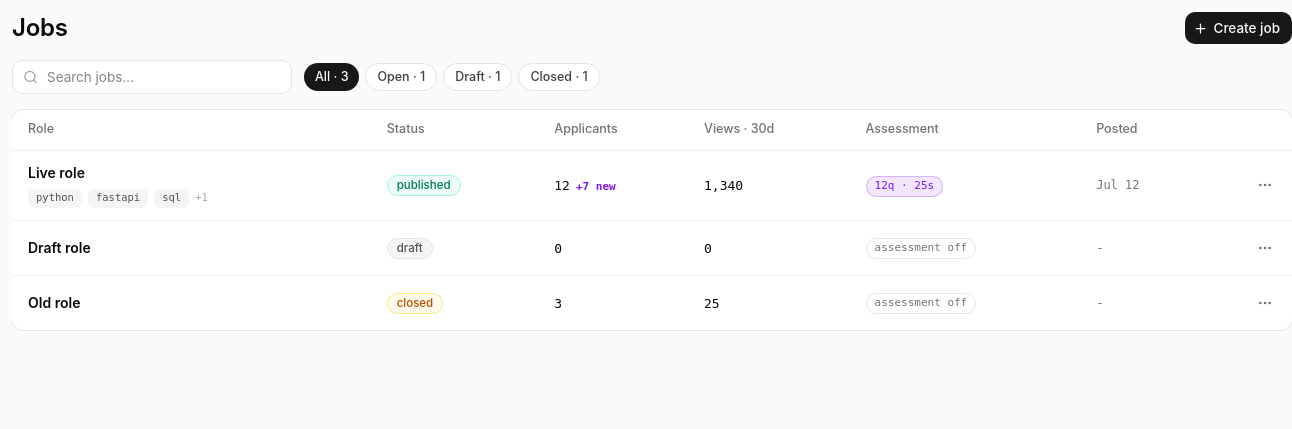
Test: JobsPage › publishes a draft from the row actions menu
The width and height of the screenshot is (1292, 429).
Expected: the link "Draft role" is shown, top-left (28, 239), bottom-right (91, 256)
Click the button named "Actions for Draft role" at {"x": 1265, "y": 248}, box top-left (1250, 233), bottom-right (1280, 263)
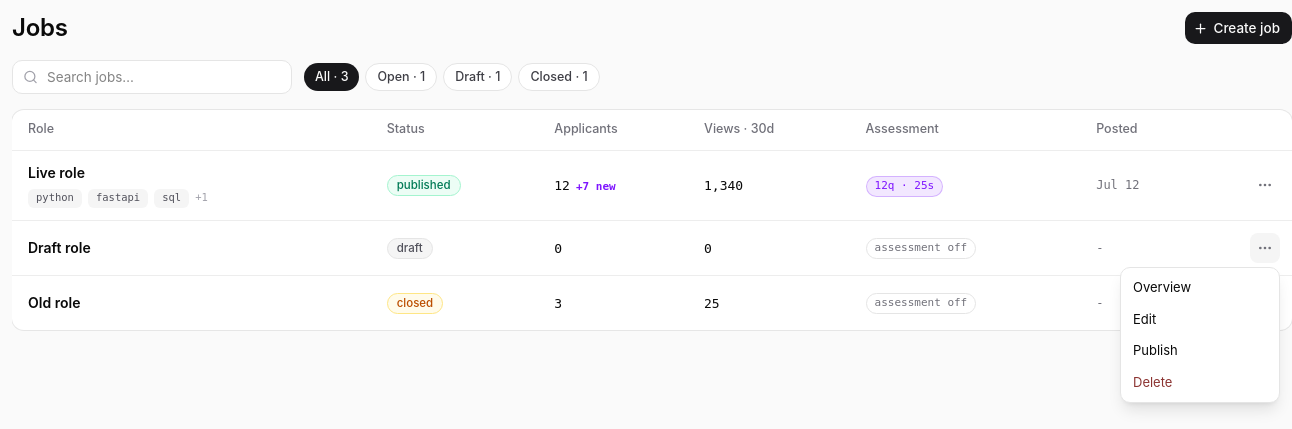
Expected: the menu item "Delete" is shown, top-left (1133, 374), bottom-right (1172, 390)
Click the menu item "Publish" at {"x": 1155, "y": 350}, box top-left (1133, 342), bottom-right (1178, 358)
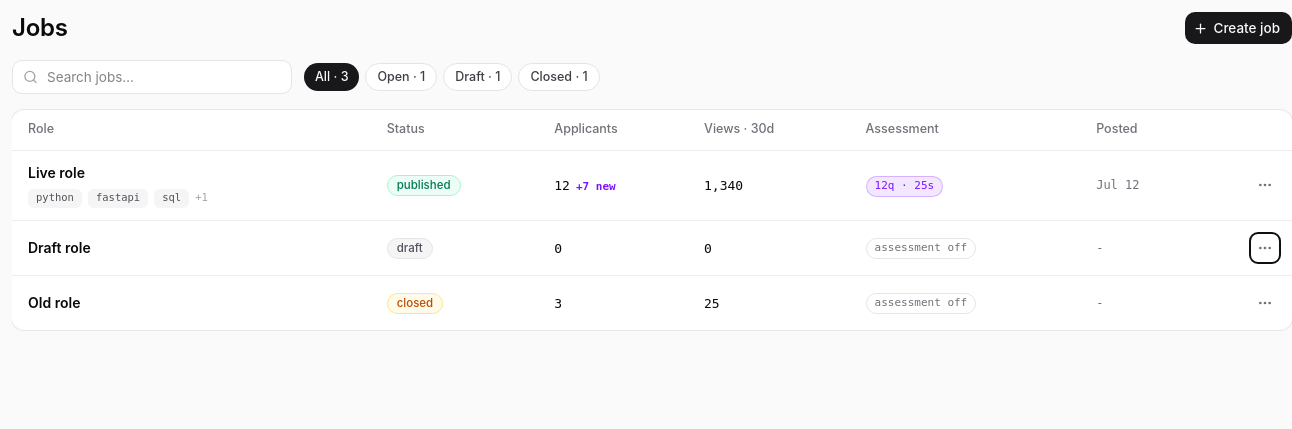
Expected: the menu is gone
